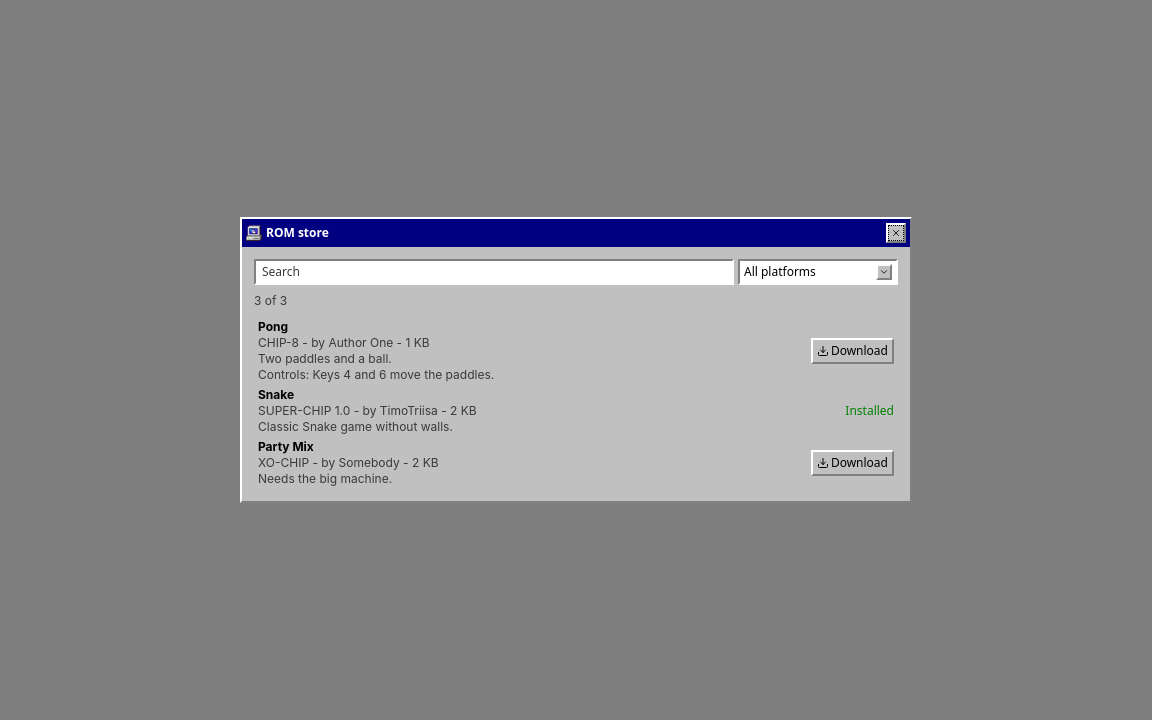
GameStoreModal › filters by title and by author
The width and height of the screenshot is (1152, 720).
Expected: the text "Pong" is shown, [258,319,288,334]
In the field with placeholder "Search": (494,272) [254,259,734,285], type "pong"
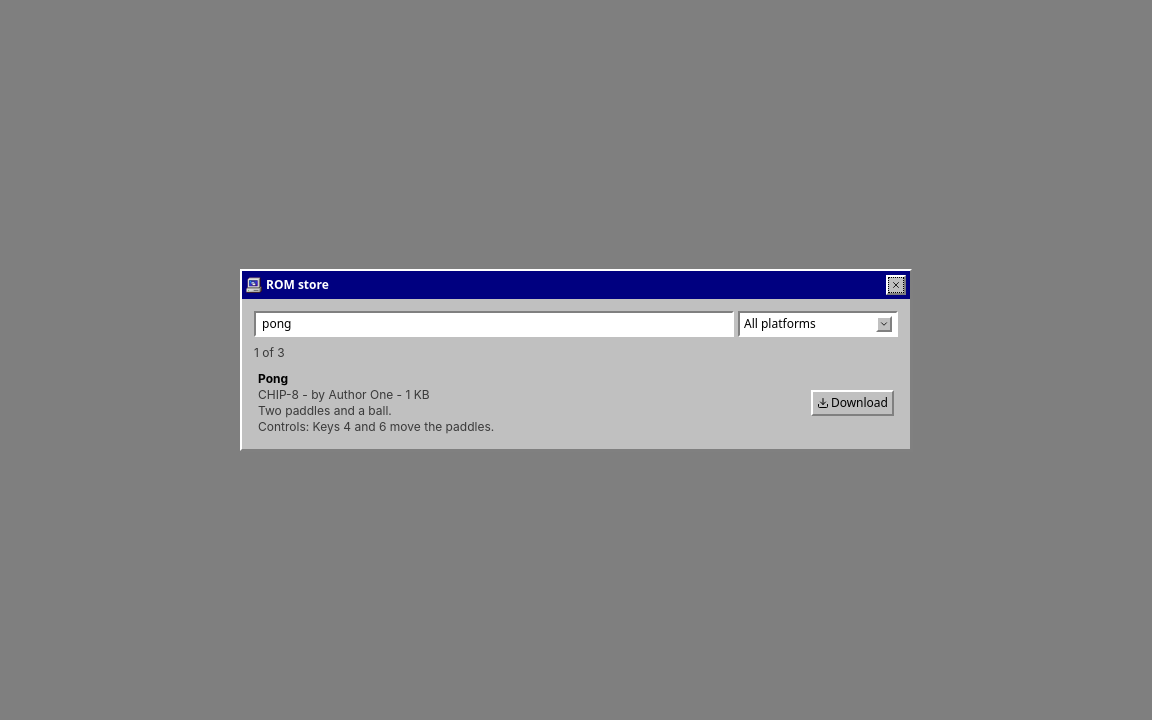
Expected: the text "Pong" is shown, [258,371,288,386]
Now the text "Snake" is gone
Now the text "1 of 3" is shown, box [254,345,285,360]
Replace the text in the field with placeholder "Search" with "timotriisa": (494,324) [254,311,734,337]
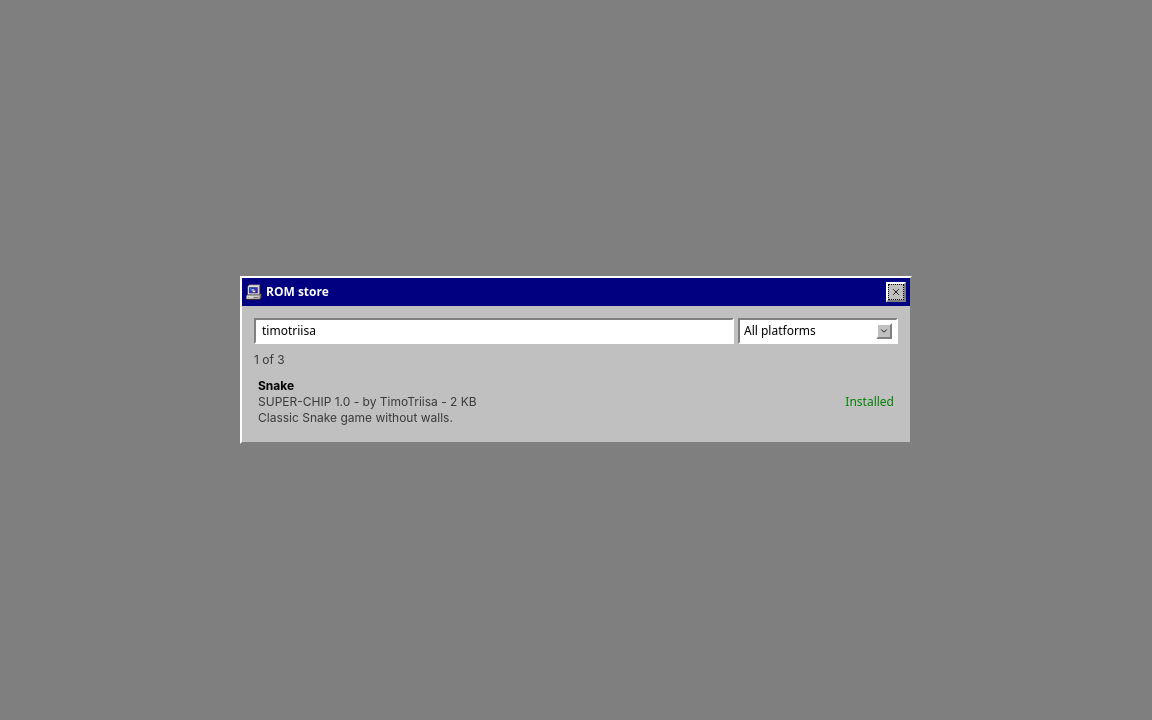
Now the text "Pong" is gone
Now the text "Snake" is shown, box [258,378,294,393]
